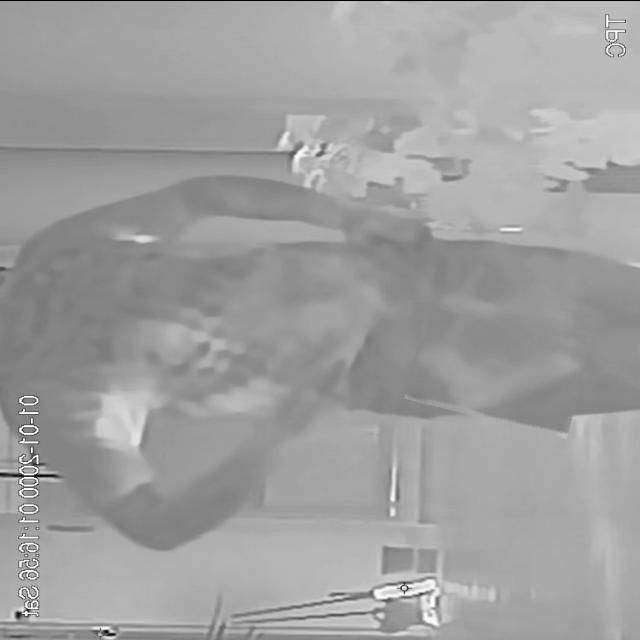Weapon: (408, 314, 586, 430)
